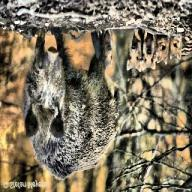boar: (22, 28, 120, 181)
